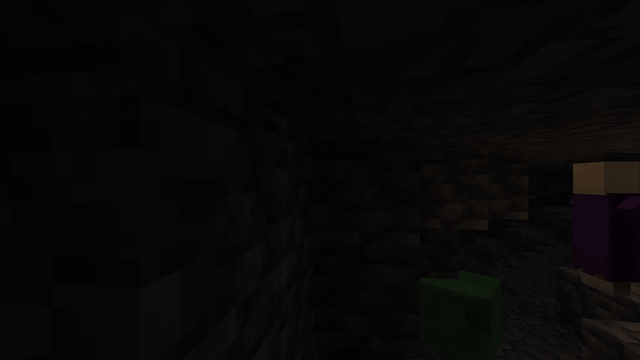slimes: (421, 267, 512, 359)
sorcieres: (565, 155, 638, 298)
